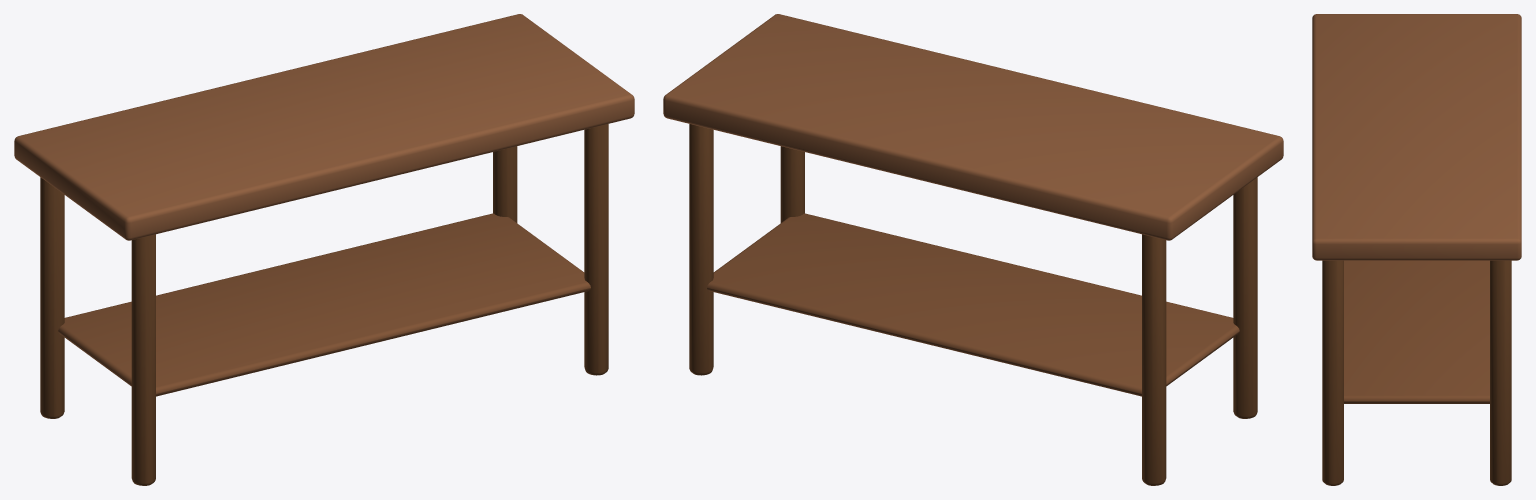
Rendered from bancada.glb.
3 renders of one model, left to right at view 1: azimuth 30°, elevation 25°; view 2: azimuth 150°, elevation 25°; view 3: azimuth 270°, elevation 25°, orthographic. The views are drawn at different scales.
Parts seen in each view (by area): view 1: bancada; view 2: bancada; view 3: bancada.
Boxes of the visible parts, <box> form: bancada: <box>14,14,634,485</box>; bancada: <box>663,14,1283,485</box>; bancada: <box>1312,14,1521,485</box>.
Bounding box in the file's own units: 1.8 × 0.94 × 0.7.
